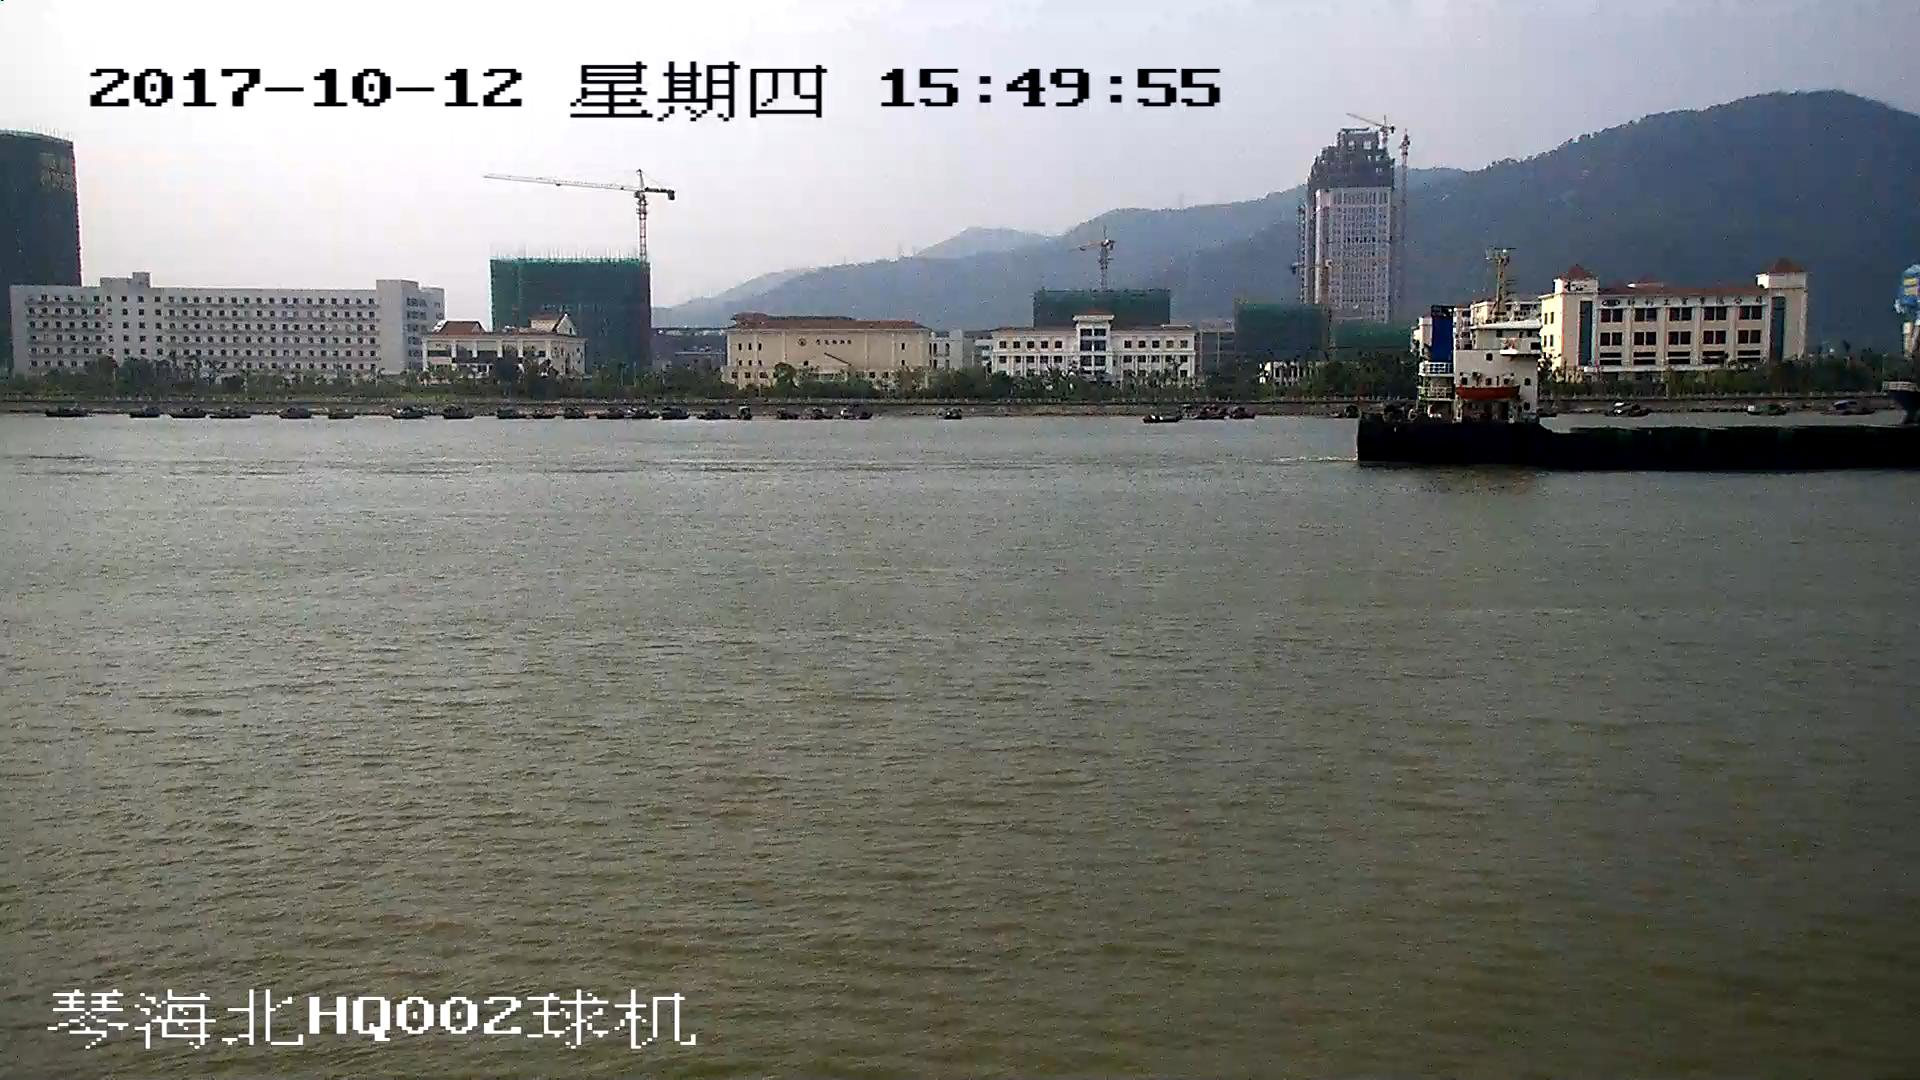general cargo ship: (1365, 288, 1920, 472)
